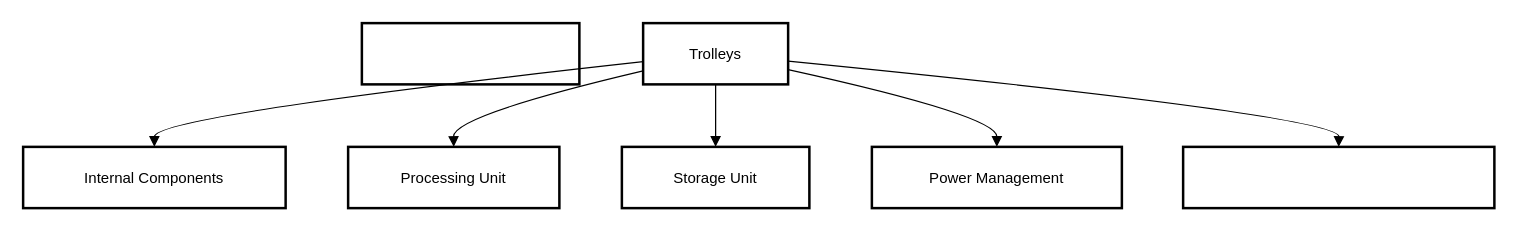
The diagram is 1516 pixels wide and 230 high, and some of its shapes have lost their labels. The shapes that lost their labels are listed below. From the top down, each one's centre as x and y in pixels, then its label:
(470,53): Hardware Layer
(1338,177): Communication Interfaces
